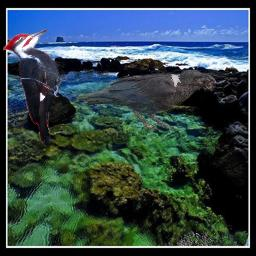Crow: (79, 68, 217, 132)
Woodpecker: (3, 29, 68, 145)
